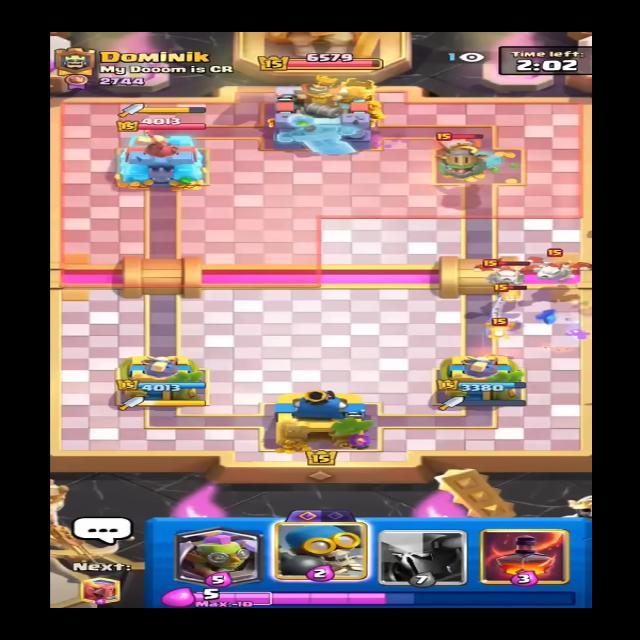Infernodragon: (423, 132, 505, 178)
Skeletondragon: (472, 253, 544, 291), (536, 248, 600, 288)
